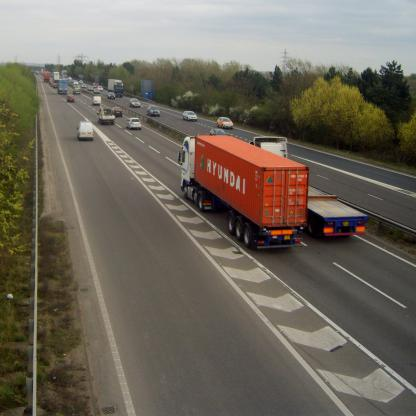Car: (216, 116, 233, 130), (126, 117, 142, 130), (182, 110, 197, 122), (147, 105, 160, 117), (208, 129, 227, 136), (111, 107, 122, 117), (129, 98, 140, 107), (107, 92, 116, 100), (66, 94, 74, 102), (92, 88, 100, 94)
Truck: (183, 126, 314, 258), (249, 138, 368, 241), (96, 110, 120, 124), (107, 78, 123, 95), (57, 80, 68, 94), (53, 72, 60, 84)
